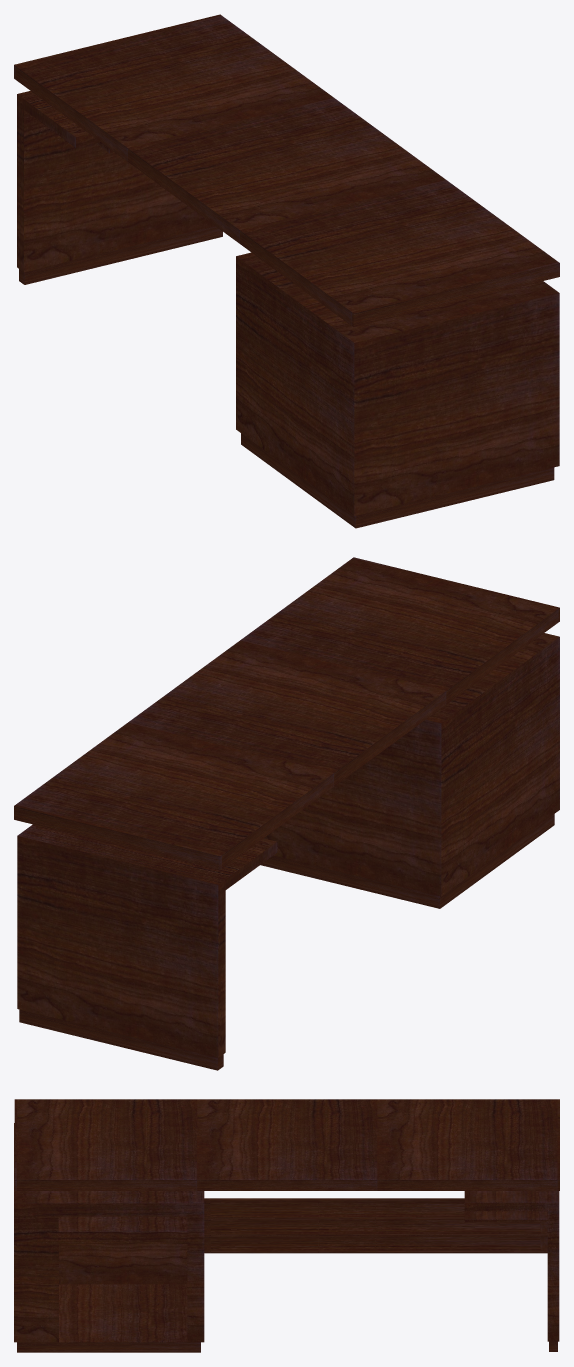
The model's file is desktopTable.glb.
3 views of the same model, one above another, from view 1: azimuth 30°, elevation 25°; view 2: azimuth 150°, elevation 25°; view 3: azimuth 270°, elevation 25° (orthographic). The views are drawn at different scales.
Parts seen in each view (by area): view 1: Semi_Transparent; view 2: Semi_Transparent; view 3: Semi_Transparent.
Boxes of the visible parts, box(x1,y1,x2,y2) form: Semi_Transparent: box(14, 14, 559, 528); Semi_Transparent: box(14, 557, 559, 1070); Semi_Transparent: box(14, 1099, 559, 1352).
Bounding box in the file's own units: 0.7918 × 0.7966 × 2.26.
Materials: 1 (1 with a texture image).
